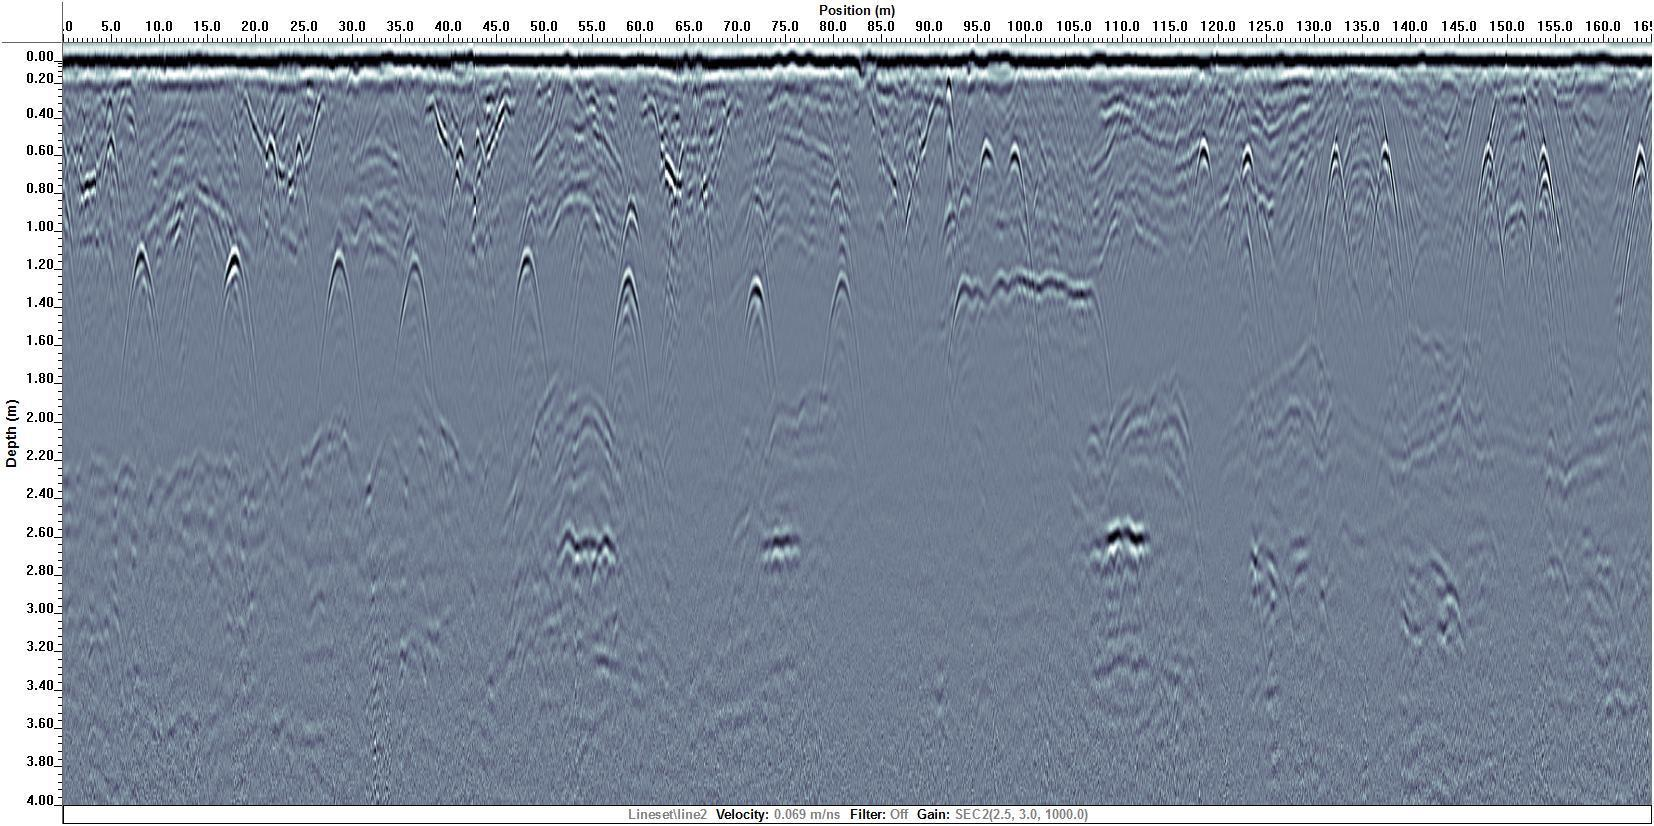hyperbola: (122, 243, 160, 353), (214, 246, 252, 356), (319, 250, 357, 360), (396, 256, 434, 366), (506, 254, 544, 364), (609, 268, 647, 378), (738, 274, 776, 384), (826, 275, 864, 385), (259, 131, 280, 211), (289, 136, 309, 216), (448, 137, 468, 217), (623, 200, 645, 257), (832, 197, 853, 254), (830, 195, 851, 252), (977, 138, 998, 195), (1003, 141, 1024, 198), (1378, 140, 1395, 204), (1195, 132, 1211, 196), (1240, 137, 1256, 201), (1327, 141, 1343, 205), (1480, 139, 1496, 203), (1537, 145, 1553, 208), (1633, 142, 1649, 206)
